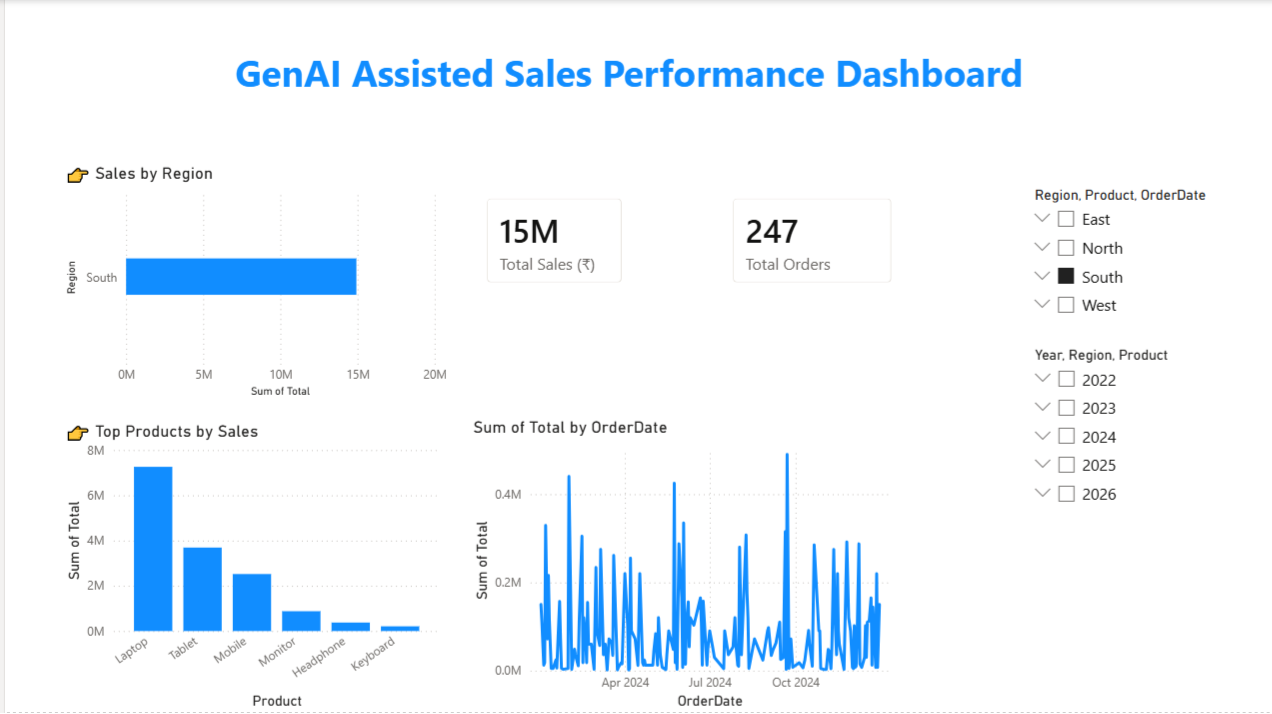

The page's visual inventory and layout, read from the dashboard file:
{"tool":"powerbi","page":{"name":"Page 1","canvas":[1280,720],"ordinal":0},"visuals":[{"type":"cardVisual","fields":{"Data":["Sum(SalesData.Total)"]},"box":[469.2,182.9,170.2,119.3],"z":0},{"type":"cardVisual","fields":{"Data":["CountNonNull(SalesData.OrderID)"]},"box":[717.4,182.9,194.1,119.3],"z":1},{"type":"barChart","title":"👉 Sales by Region","fields":{"Y":["Sum(SalesData.Total)"],"Category":["SalesData.Region"]},"box":[55.7,160.7,394.5,245],"z":2},{"type":"lineChart","fields":{"Category":["SalesData.OrderDate.Variation.Date Hierarchy.Year"],"Y":["Sum(SalesData.Total)"]},"box":[467.6,421.5,443.8,299],"z":3},{"type":"columnChart","title":"👉 Top Products by Sales","fields":{"Category":["SalesData.Product"],"Y":["Sum(SalesData.Total)"]},"box":[55.7,421.5,388.1,299],"z":4},{"type":"slicer","fields":{"Values":["SalesData.Region","SalesData.Product","SalesData.OrderDate"]},"box":[1025.9,182.9,238.6,143.2],"z":5},{"type":"slicer","fields":{"Values":["Calendar.Year","SalesData.Region","SalesData.Product"]},"box":[1025.9,345.2,213.1,184.5],"z":6},{"type":"textbox","box":[55.7,42.9,1148.4,60.4],"z":7}]}

Visuals, with their boxes in screenshot pixels (x1, y1, x2, y2), scaled from the page's 1280x720 canvas onto the 1272x714 screenshot:
cardVisual - Sum(SalesData.Total): bbox=(466, 181, 635, 300)
cardVisual - CountNonNull(SalesData.OrderID): bbox=(713, 181, 906, 300)
"👉 Sales by Region" barChart: bbox=(55, 159, 447, 402)
lineChart - SalesData.OrderDate.Variation.Date Hierarchy.Year x Sum(SalesData.Total): bbox=(465, 418, 906, 713)
"👉 Top Products by Sales" columnChart: bbox=(55, 418, 441, 713)
slicer - SalesData.Region x SalesData.Product: bbox=(1019, 181, 1257, 323)
slicer - Calendar.Year x SalesData.Region: bbox=(1019, 342, 1231, 525)
textbox: bbox=(55, 43, 1197, 102)
